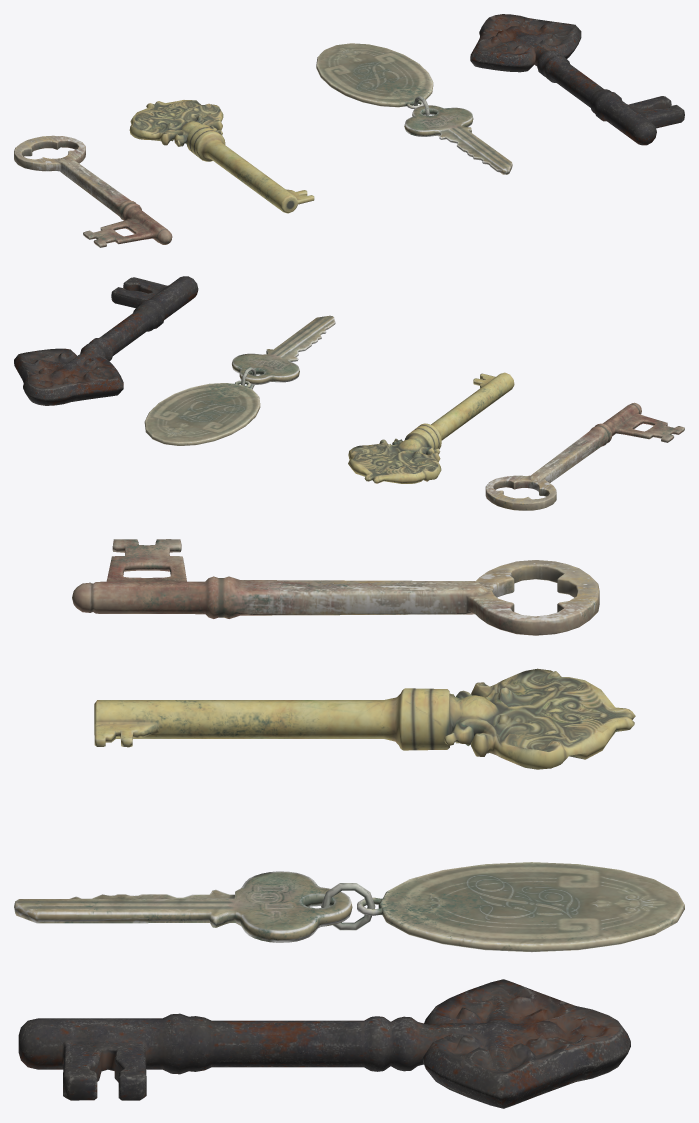
Rendered from keys_scp_sigil.glb.
3 renders of one model, top to bottom at view 1: azimuth 30°, elevation 25°; view 2: azimuth 150°, elevation 25°; view 3: azimuth 270°, elevation 25°, orthographic. The views are drawn at different scales.
Parts seen in each view (by area): view 1: keys:key4_link1_keys:mat_keys1_0.003, keys:key4_link1_keys:mat_keys1_0, keys:key4_link1_keys:mat_keys1_0.002, keys:key4_link1_keys:mat_keys1_0.001; view 2: keys:key4_link1_keys:mat_keys1_0.003, keys:key4_link1_keys:mat_keys1_0, keys:key4_link1_keys:mat_keys1_0.002, keys:key4_link1_keys:mat_keys1_0.001; view 3: keys:key4_link1_keys:mat_keys1_0.003, keys:key4_link1_keys:mat_keys1_0, keys:key4_link1_keys:mat_keys1_0.002, keys:key4_link1_keys:mat_keys1_0.001.
Part boxes in pixels (x1,y1,x2,y2): keys:key4_link1_keys:mat_keys1_0.003: (470, 14, 684, 145); keys:key4_link1_keys:mat_keys1_0: (316, 43, 512, 174); keys:key4_link1_keys:mat_keys1_0.002: (129, 100, 314, 213); keys:key4_link1_keys:mat_keys1_0.001: (14, 135, 172, 247); keys:key4_link1_keys:mat_keys1_0.003: (14, 276, 198, 405); keys:key4_link1_keys:mat_keys1_0: (144, 315, 335, 445); keys:key4_link1_keys:mat_keys1_0.002: (348, 372, 514, 483); keys:key4_link1_keys:mat_keys1_0.001: (485, 402, 684, 510); keys:key4_link1_keys:mat_keys1_0.003: (18, 979, 630, 1108); keys:key4_link1_keys:mat_keys1_0: (14, 862, 684, 952); keys:key4_link1_keys:mat_keys1_0.002: (94, 668, 635, 769); keys:key4_link1_keys:mat_keys1_0.001: (72, 539, 599, 635).
Bounding box in the file's own units: 0.2054 × 0.00982 × 0.105.
1 material, 1 textured.
